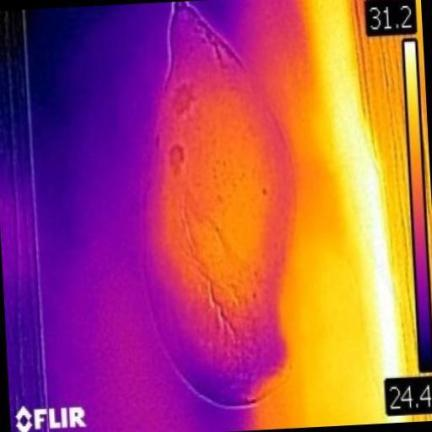mango: (142, 1, 292, 404)
